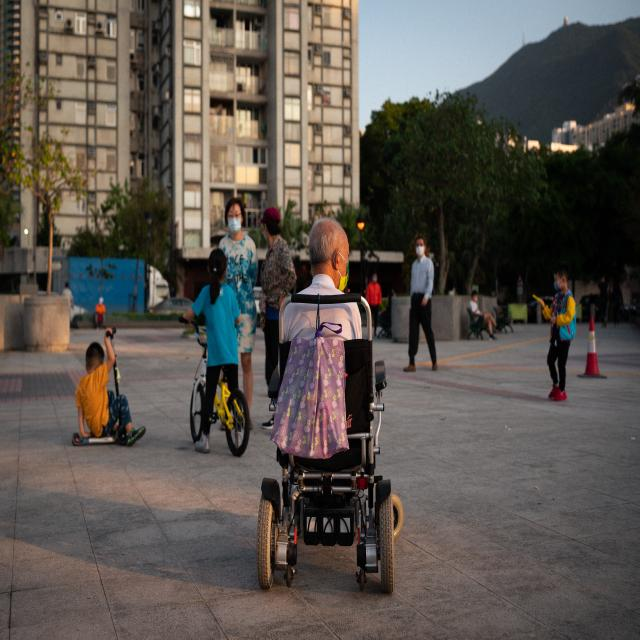wheelchairs: (260, 294, 403, 600)
